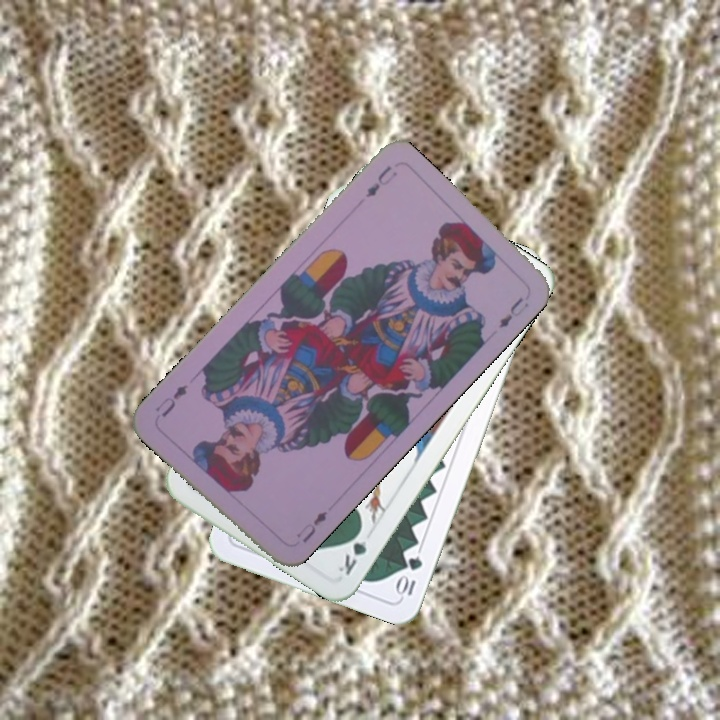EU: (361, 161, 400, 200), (298, 507, 330, 546)
G10: (393, 552, 425, 600)
GK: (334, 522, 372, 578)
